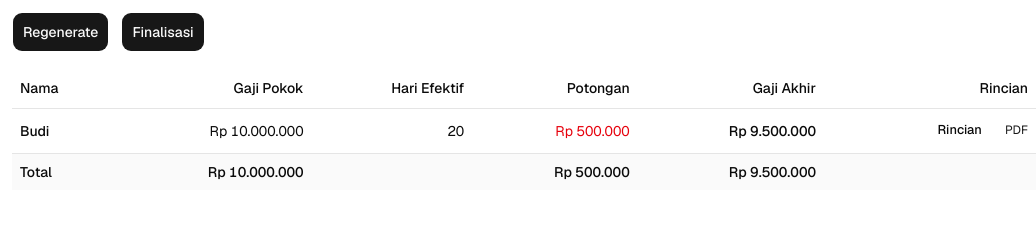
Scenario: PayslipTable › recovers when an action rejects (unbusies and shows a generic error)
Click the button "Regenerate".
click(61, 32)  # box 12,12 -> 109,52
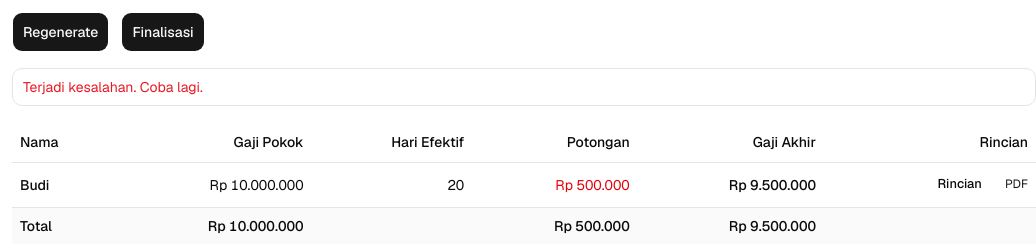
Now the text "Terjadi kesalahan. Coba lagi." is shown, box 23,78 -> 203,96
